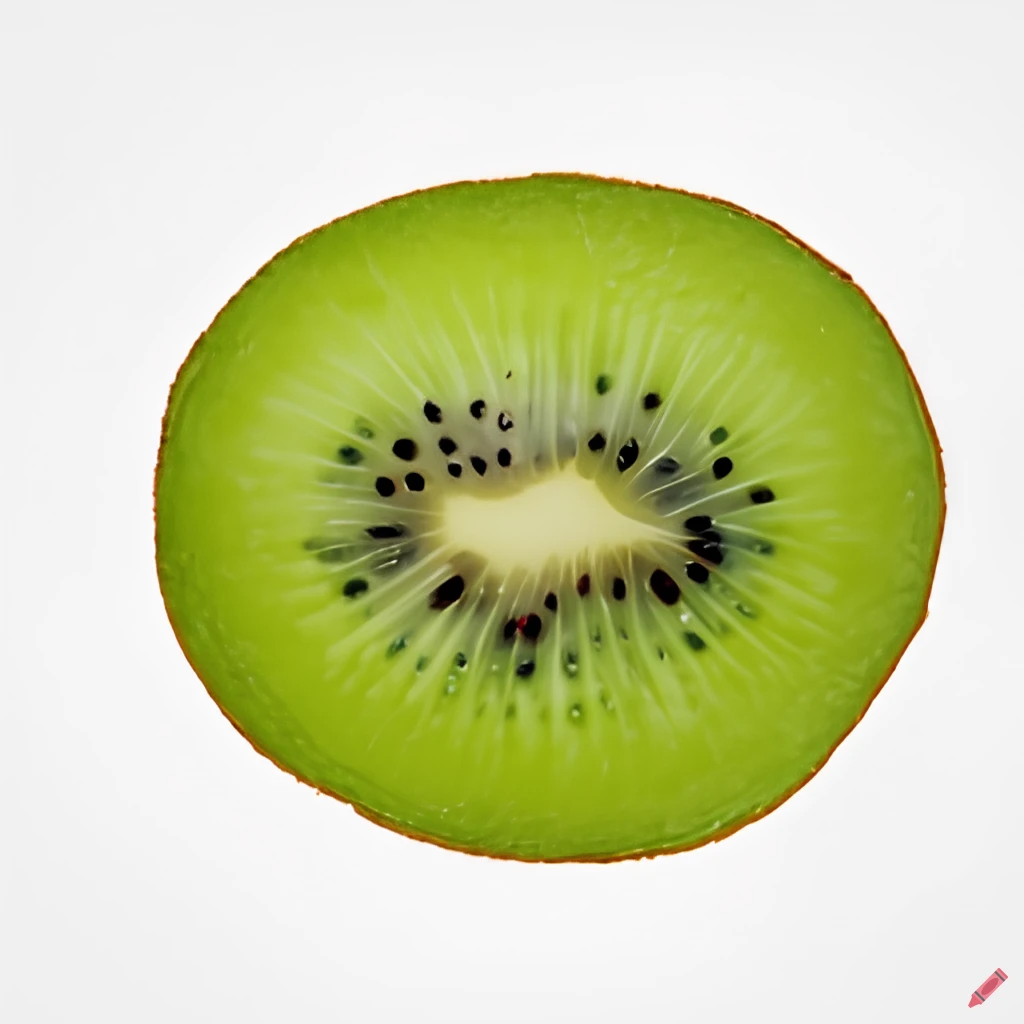Kiwi: (92, 160, 946, 883)
